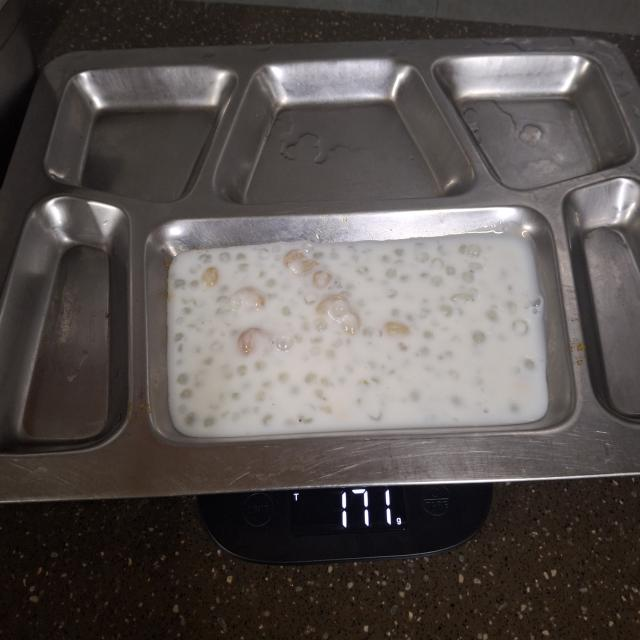Kheer: (159, 229, 553, 442)
